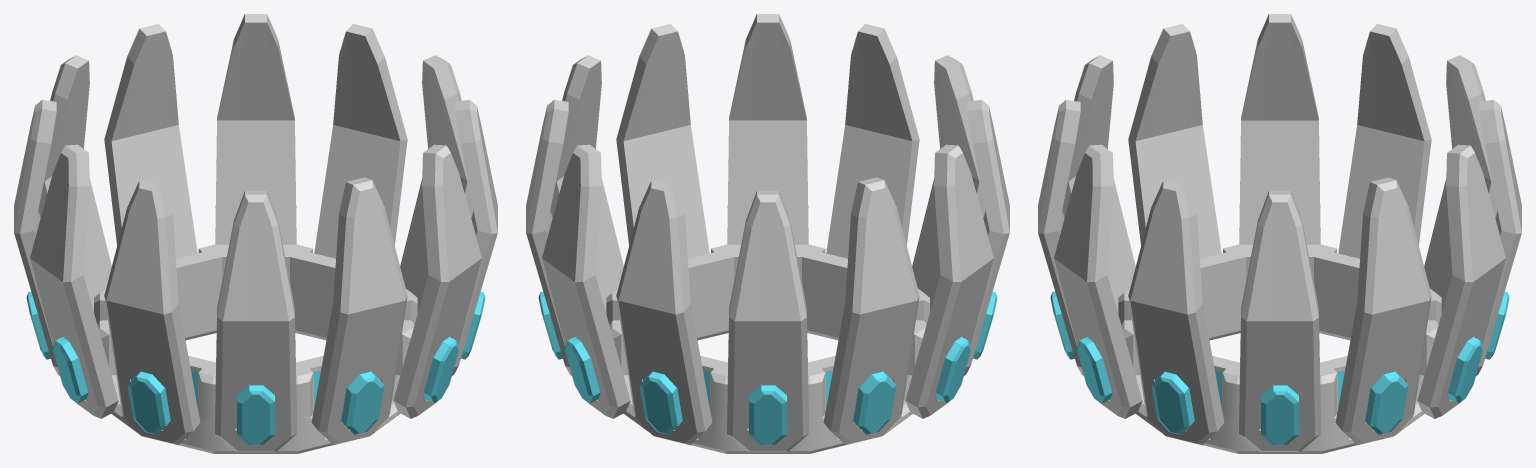
File: Crown.fbx
3 views of the same model, side by side, from view 1: azimuth 30°, elevation 25°; view 2: azimuth 150°, elevation 25°; view 3: azimuth 270°, elevation 25° (orthographic).
Visible parts, largest first — view 1: Spikes, Crown; view 2: Spikes, Crown; view 3: Spikes, Crown.
Boxes of the visible parts, x1,y1,x2,y2 form: Spikes: (14, 14, 497, 451); Crown: (94, 244, 417, 453); Spikes: (526, 14, 1009, 451); Crown: (606, 244, 929, 453); Spikes: (1038, 14, 1521, 451); Crown: (1118, 244, 1441, 453).
Size of the model in its own units: 565 by 365 by 565.
